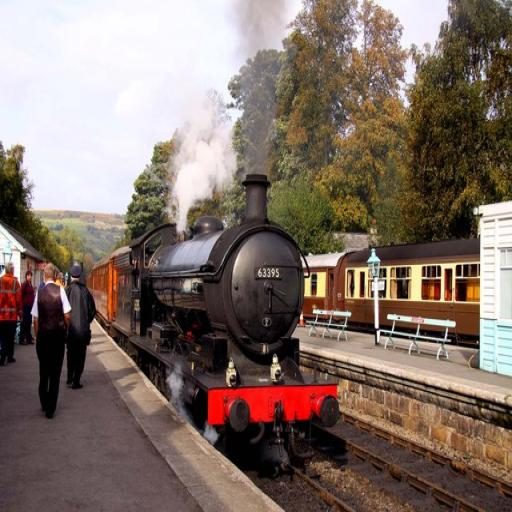platform_edge: (94, 357, 300, 512)
